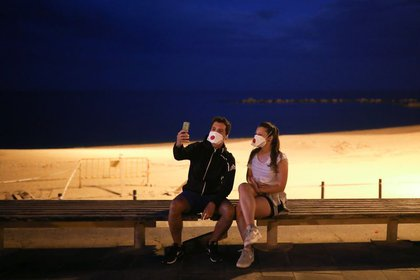with_mask: (251, 122, 279, 152), (201, 118, 230, 146)
